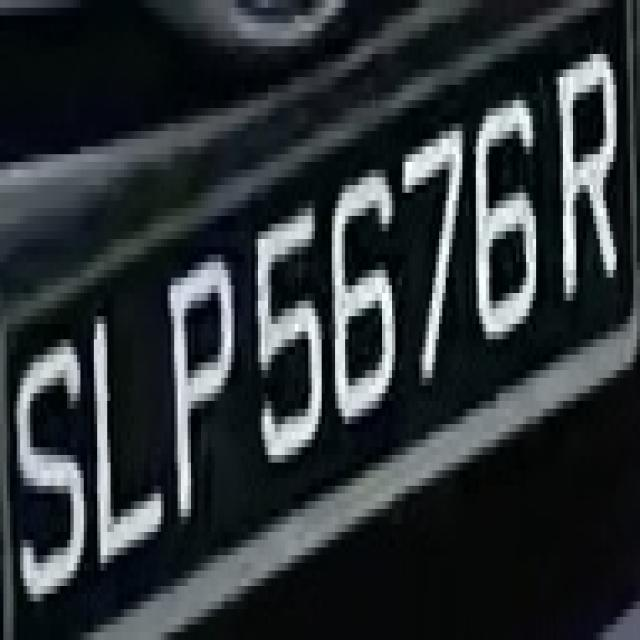5: (244, 185, 328, 470)
6: (318, 154, 402, 440), (462, 77, 543, 355)
7: (395, 108, 466, 409)
L: (84, 286, 161, 578)
P: (164, 247, 241, 540)
R: (556, 31, 623, 316)
S: (13, 324, 84, 609)
